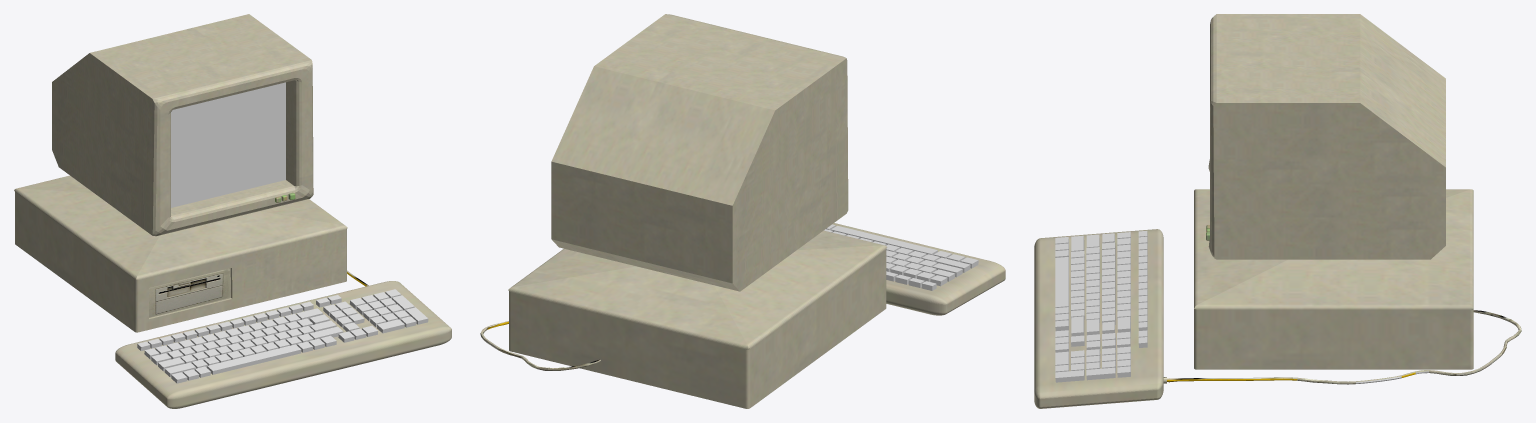
File: retrocomputer.fbx
The picture shows the model from 3 angles, left to right: view 1: azimuth 30°, elevation 25°; view 2: azimuth 150°, elevation 25°; view 3: azimuth 270°, elevation 25°; orthographic projection. The views are drawn at different scales.
Visible parts, largest first — view 1: PC; view 2: PC; view 3: PC.
Part boxes in pixels (x1,y1,x2,y2): PC: [14, 14, 451, 408]; PC: [480, 14, 1005, 408]; PC: [1034, 14, 1521, 408].
Bounding box in the file's own units: 68.27 × 55.02 × 88.43.
3 materials, 1 textured.
